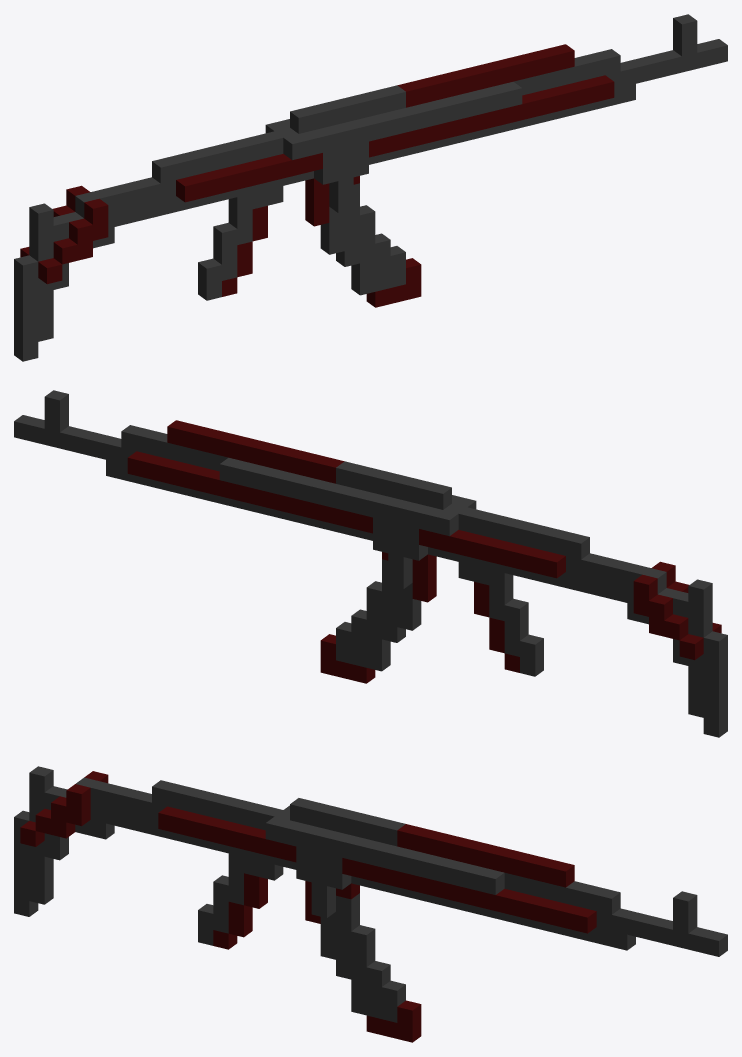
File: rifle.fbx
The picture shows the model from 3 angles, top to bottom: view 1: azimuth 30°, elevation 25°; view 2: azimuth 150°, elevation 25°; view 3: azimuth 330°, elevation 25°; orthographic projection.
Visible parts, largest first — view 1: rifle1; view 2: rifle1; view 3: rifle1.
Boxes of the visible parts, x1,y1,x2,y2 form: rifle1: (14,14,727,361); rifle1: (14,390,727,737); rifle1: (14,766,727,1042).
Bounding box in the file's own units: 460 × 130 × 30.
